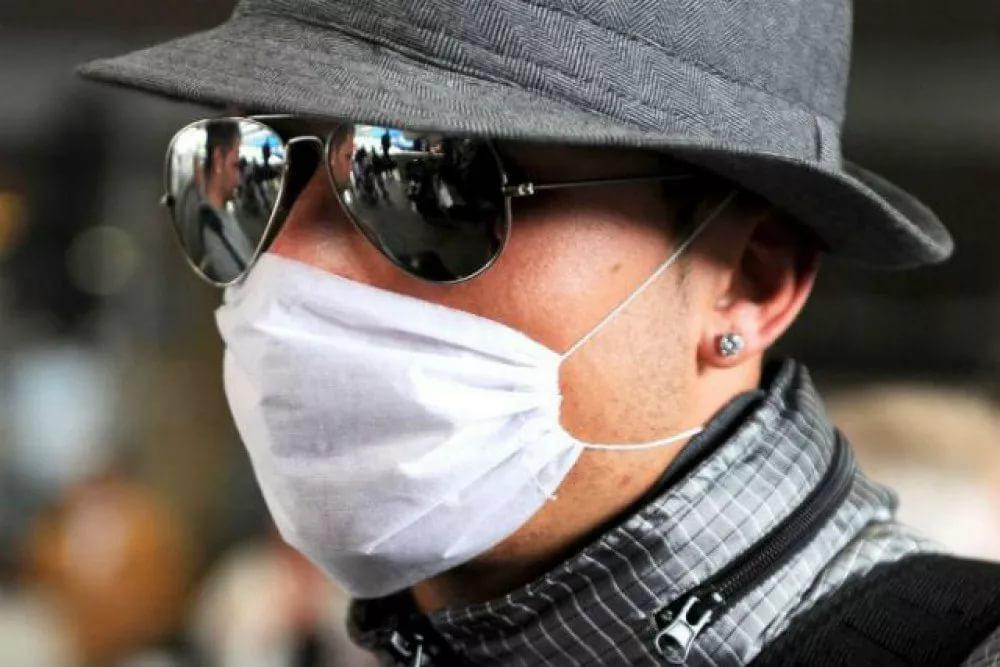mask: (160, 88, 679, 604)
